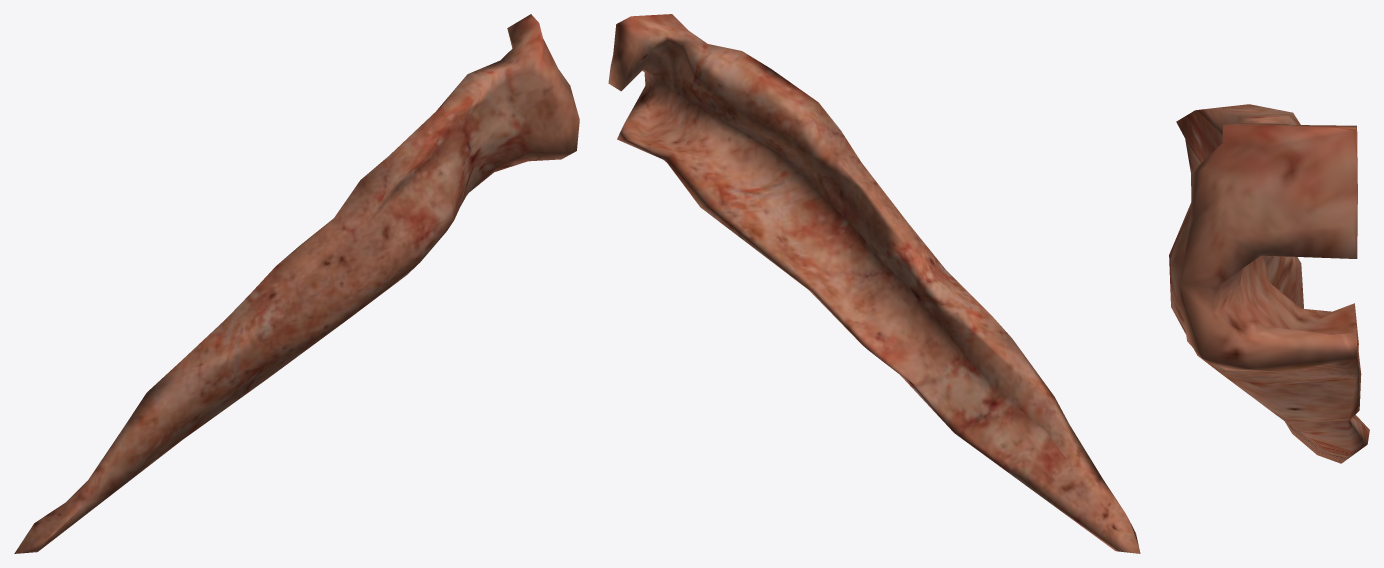
The model's file is Nasal_Chonchae_Ventral.glb.
3 renders of one model, left to right at view 1: azimuth 30°, elevation 25°; view 2: azimuth 150°, elevation 25°; view 3: azimuth 270°, elevation 25°, orthographic. The views are drawn at different scales.
Parts seen in each view (by area): view 1: Nasal_Chronchae1_1; view 2: Nasal_Chronchae1_1; view 3: Nasal_Chronchae1_1.
Boxes of the visible parts, box(x1,y1,x2,y2) form: Nasal_Chronchae1_1: box(14, 14, 579, 553); Nasal_Chronchae1_1: box(608, 14, 1140, 553); Nasal_Chronchae1_1: box(1169, 104, 1369, 463).
Size of the model in its own units: 0.2675 by 0.1981 by 0.0441.
Materials: 1 (1 with a texture image).
